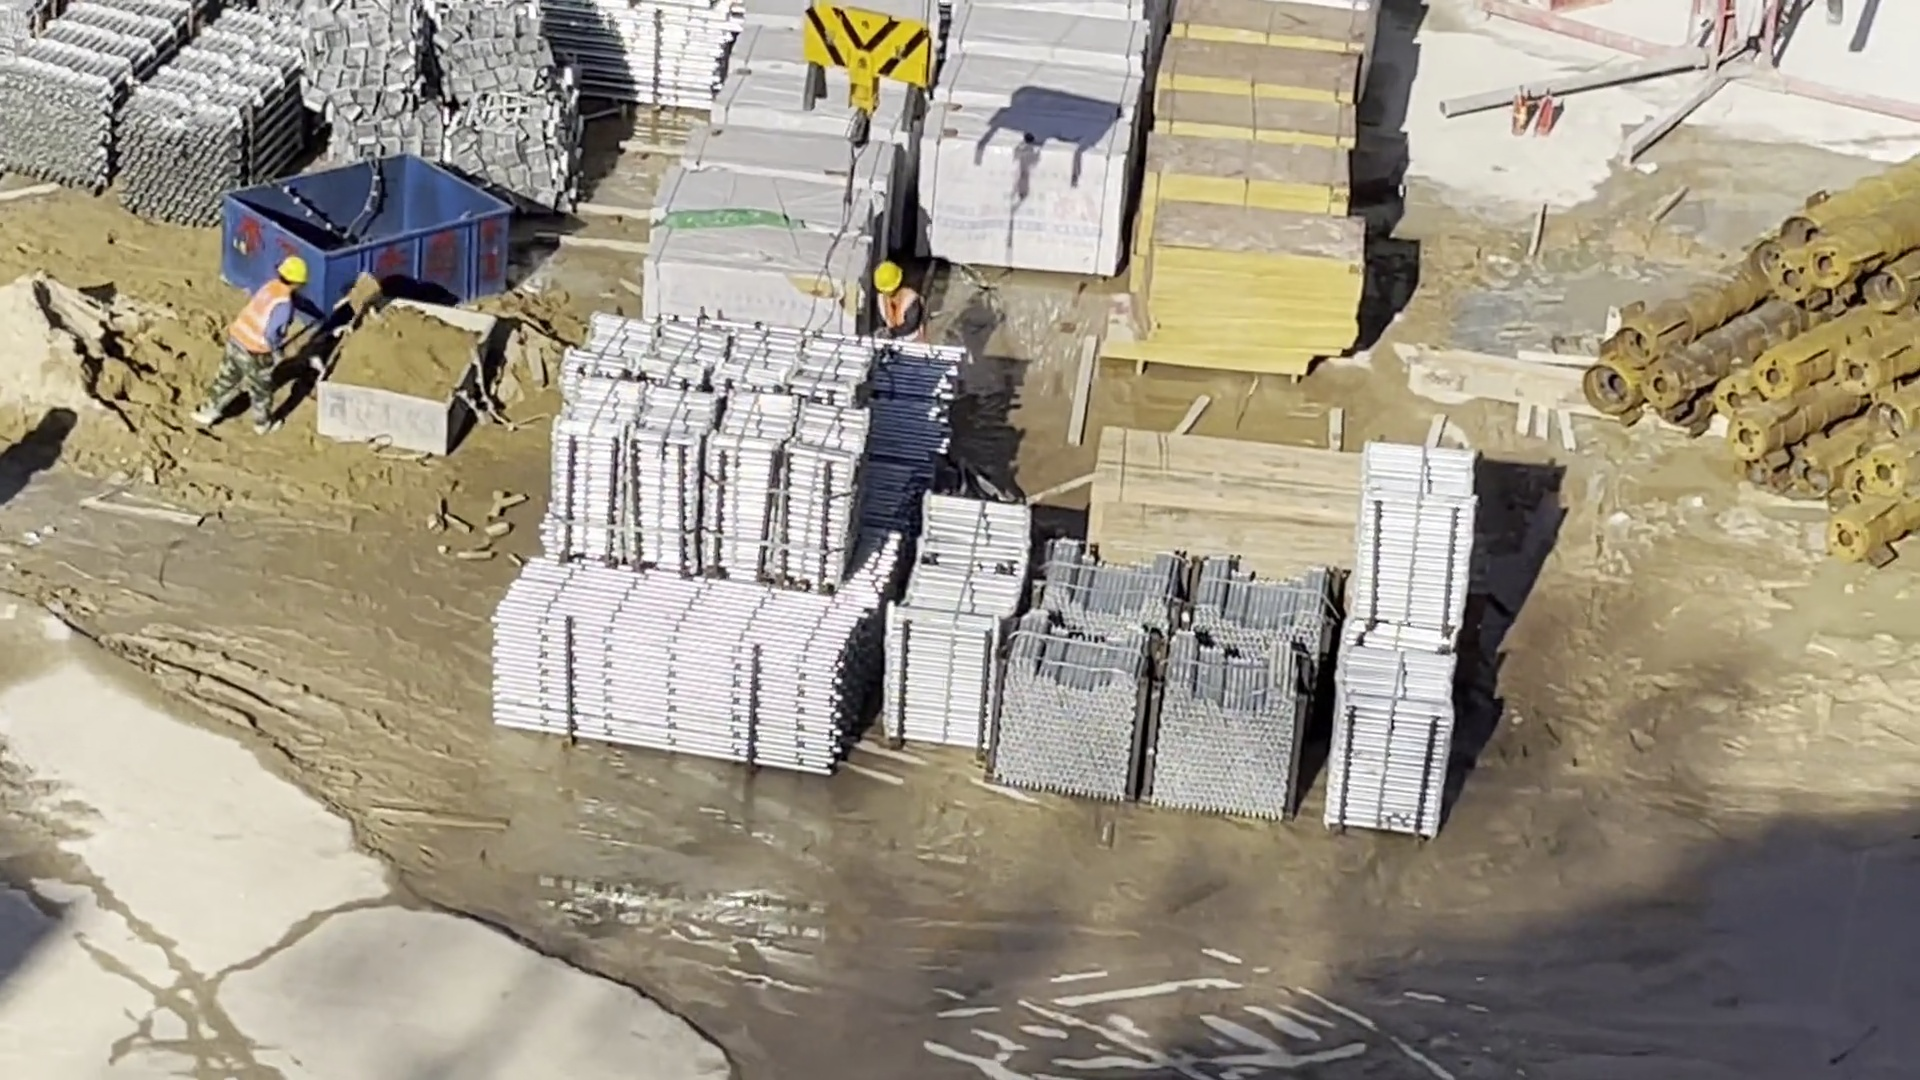helmet: (860, 250, 909, 287), (268, 242, 307, 285)
hook: (780, 1, 945, 134)
hopper: (209, 152, 519, 288), (316, 293, 461, 426)
person: (218, 254, 319, 433), (853, 254, 930, 347)
scaffold: (492, 305, 1025, 772), (1022, 528, 1303, 808), (1360, 427, 1490, 878), (25, 1, 249, 230)
vest: (228, 288, 306, 365), (880, 298, 923, 332)
